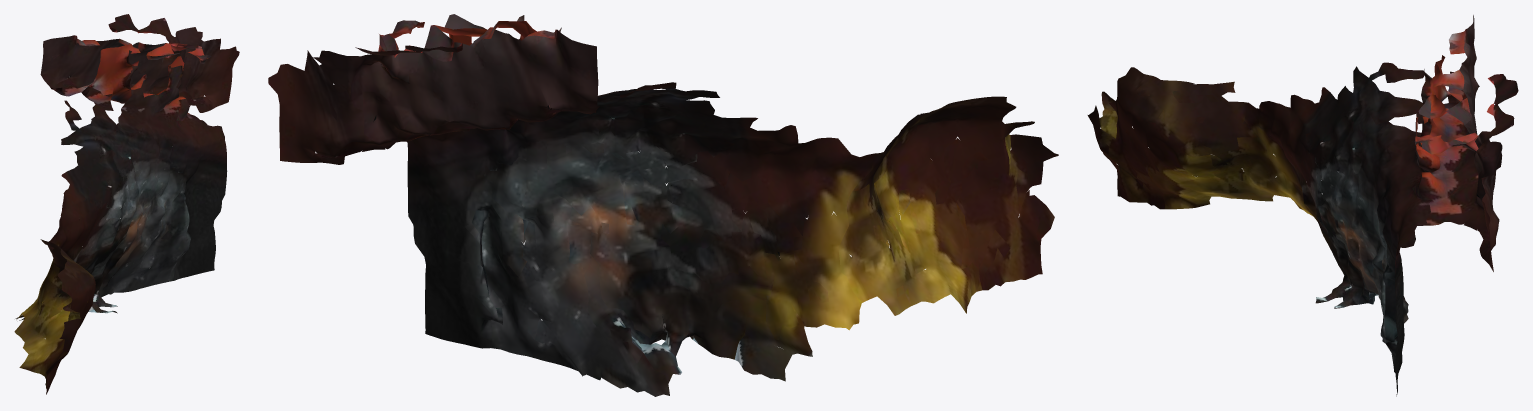
The model's file is scan_20260927_204142_2676.glb.
3 renders of one model, left to right at view 1: azimuth 30°, elevation 25°; view 2: azimuth 150°, elevation 25°; view 3: azimuth 270°, elevation 25°, orthographic. The views are drawn at different scales.
Parts seen in each view (by area): view 1: MobileScan3D_Textured; view 2: MobileScan3D_Textured; view 3: MobileScan3D_Textured.
Part boxes in pixels (x1,y1,x2,y2): MobileScan3D_Textured: (14,14,239,394); MobileScan3D_Textured: (268,14,1058,396); MobileScan3D_Textured: (1087,15,1518,396).
Bounding box in the file's own units: 0.126 × 0.0845 × 0.1096.
1 material, 1 textured.
